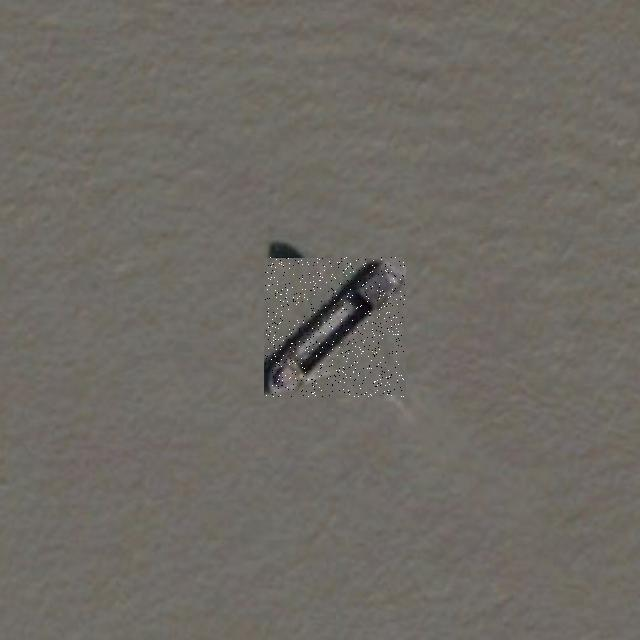boat: (265, 258, 405, 398)
